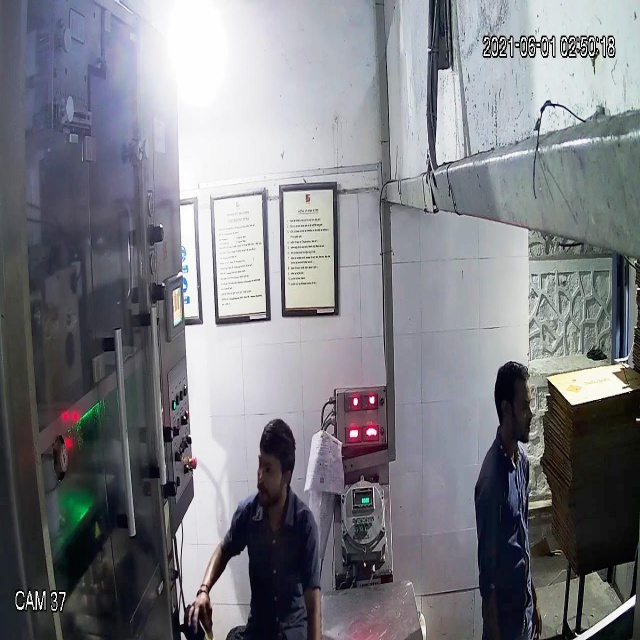Sin_gafas: (248, 449, 293, 487), (494, 386, 537, 422)
